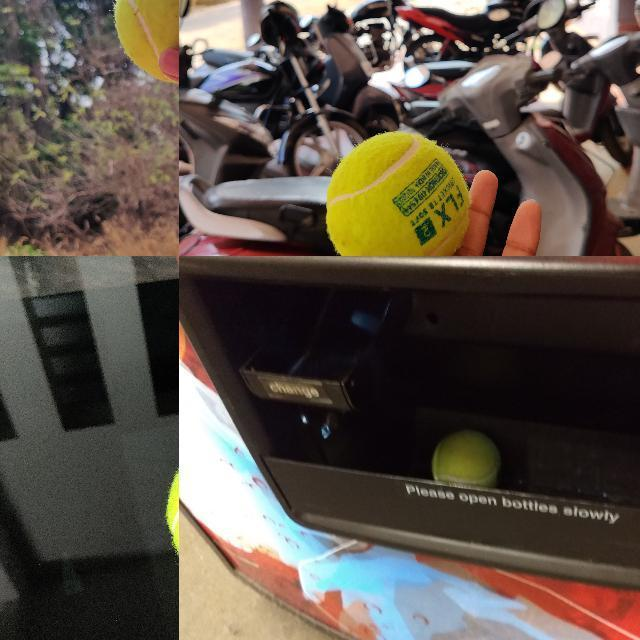tennis-ball: (324, 131, 470, 255), (114, 0, 178, 84), (431, 429, 502, 480)
